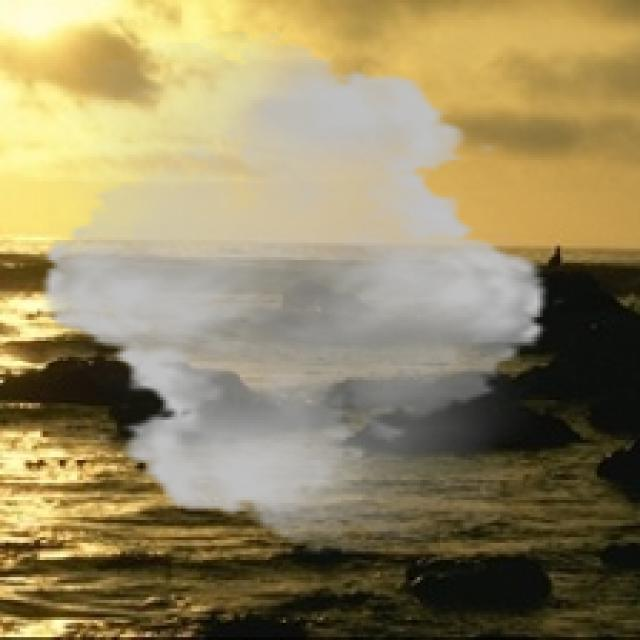smoke: (20, 32, 569, 554)
